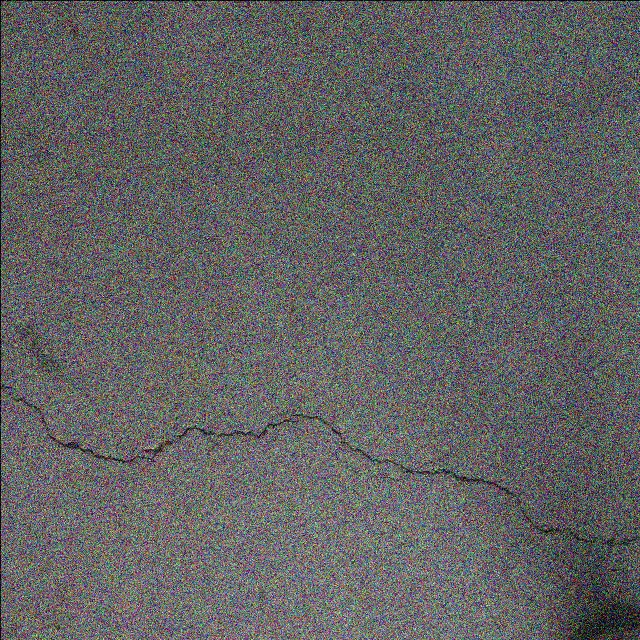SurfaceCrack: (2, 385, 640, 577)
